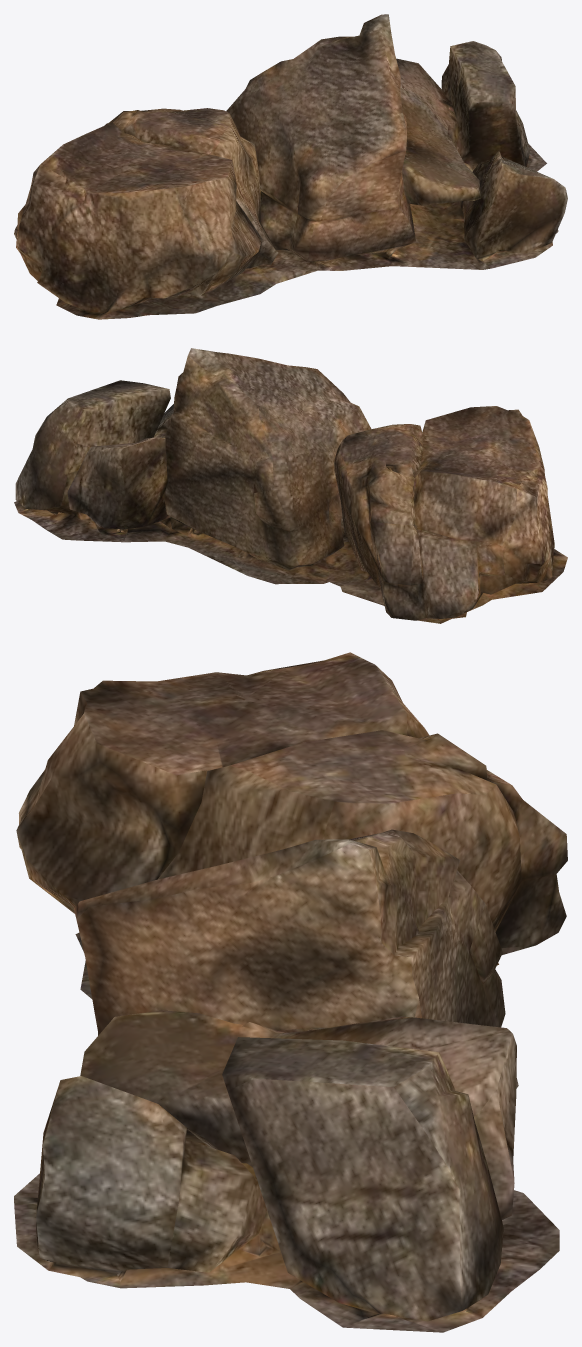
Rendered from boulder-b.glb.
3 renders of one model, top to bottom at view 1: azimuth 30°, elevation 25°; view 2: azimuth 150°, elevation 25°; view 3: azimuth 270°, elevation 25°, orthographic. The views are drawn at different scales.
Visible parts, largest first — view 1: boulder_02; view 2: boulder_02; view 3: boulder_02.
Boxes of the visible parts, x1=… form: boulder_02: x1=14, y1=14, x2=567, y2=319; boulder_02: x1=14, y1=348, x2=567, y2=623; boulder_02: x1=14, y1=652, x2=567, y2=1332.
Size of the model in its own units: 2.52 by 0.8735 by 1.23.
Materials: 1 (1 with a texture image).
